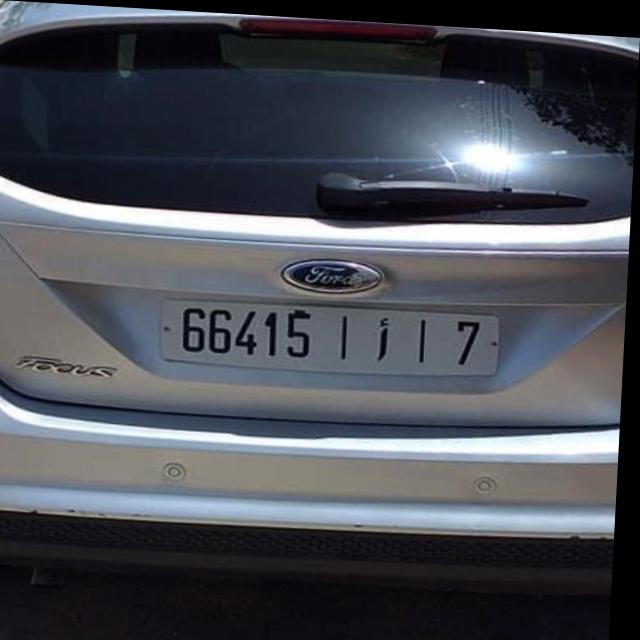License-Plate: (165, 297, 503, 370)
